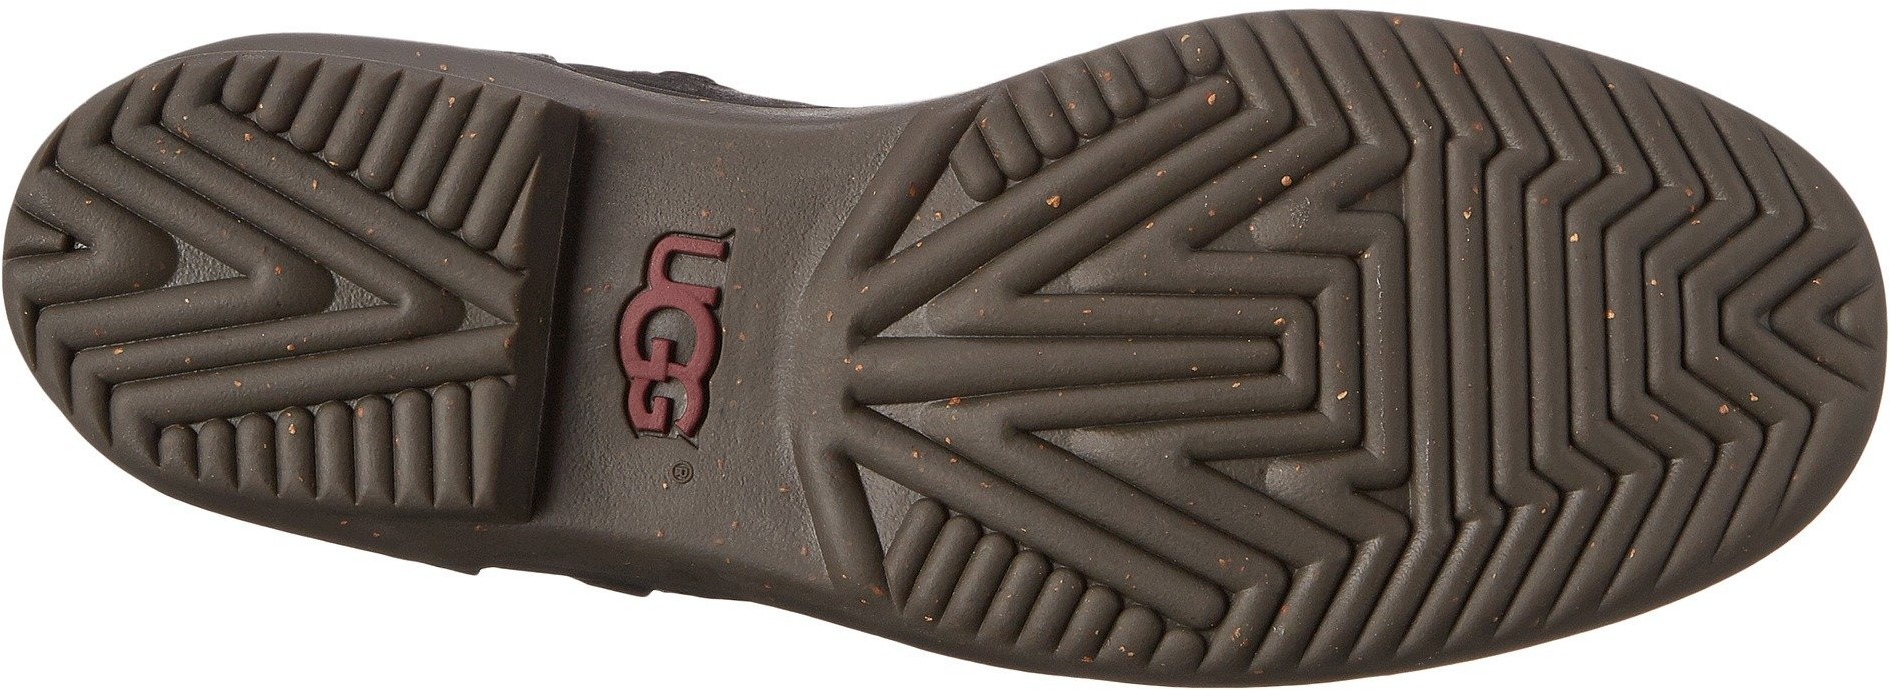chevron: (1387, 25, 1877, 663)
exclude: (497, 109, 838, 560)
text: (602, 183, 739, 483)
